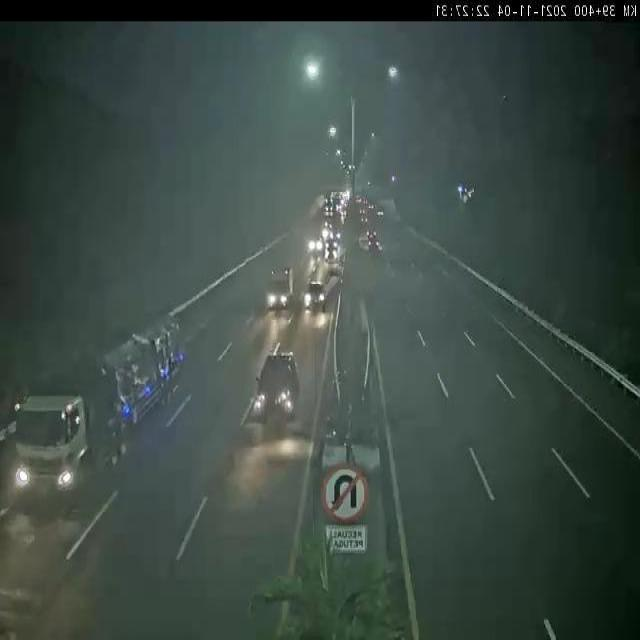Car: (241, 344, 319, 442), (300, 270, 335, 315), (303, 231, 327, 256), (361, 229, 385, 253)
Truck: (6, 296, 195, 544), (256, 265, 306, 318)
